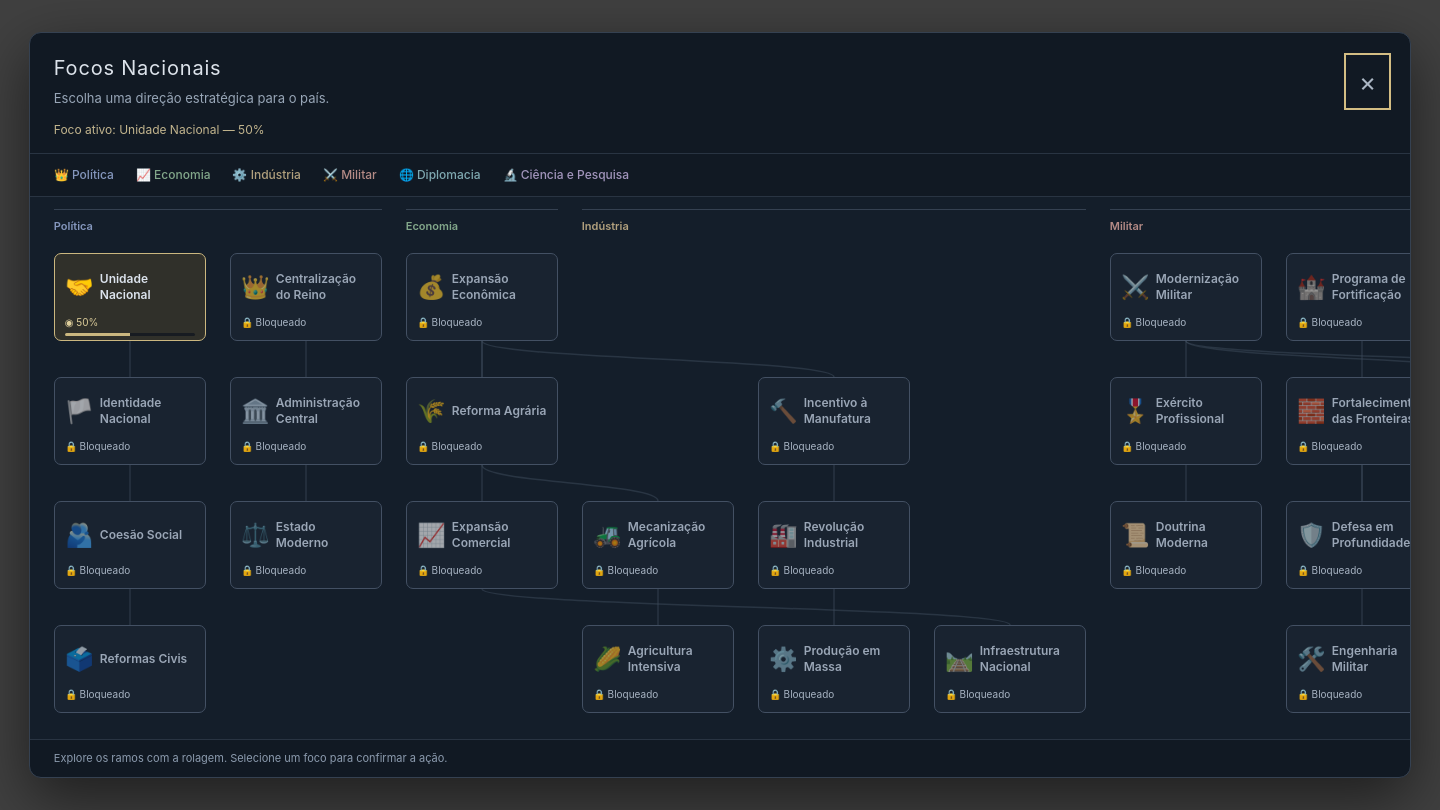
Test case: Focus UI V2 › shows compact active progress, detailed progress and loss on cancellation
Expected: the text "Foco ativo: Unidade Nacional — 50%" is shown, [54,122,265,137]
Click the button "🤝 Unidade Nacional ◉ 50%".
click(130, 297)  # box [54,253,206,341]
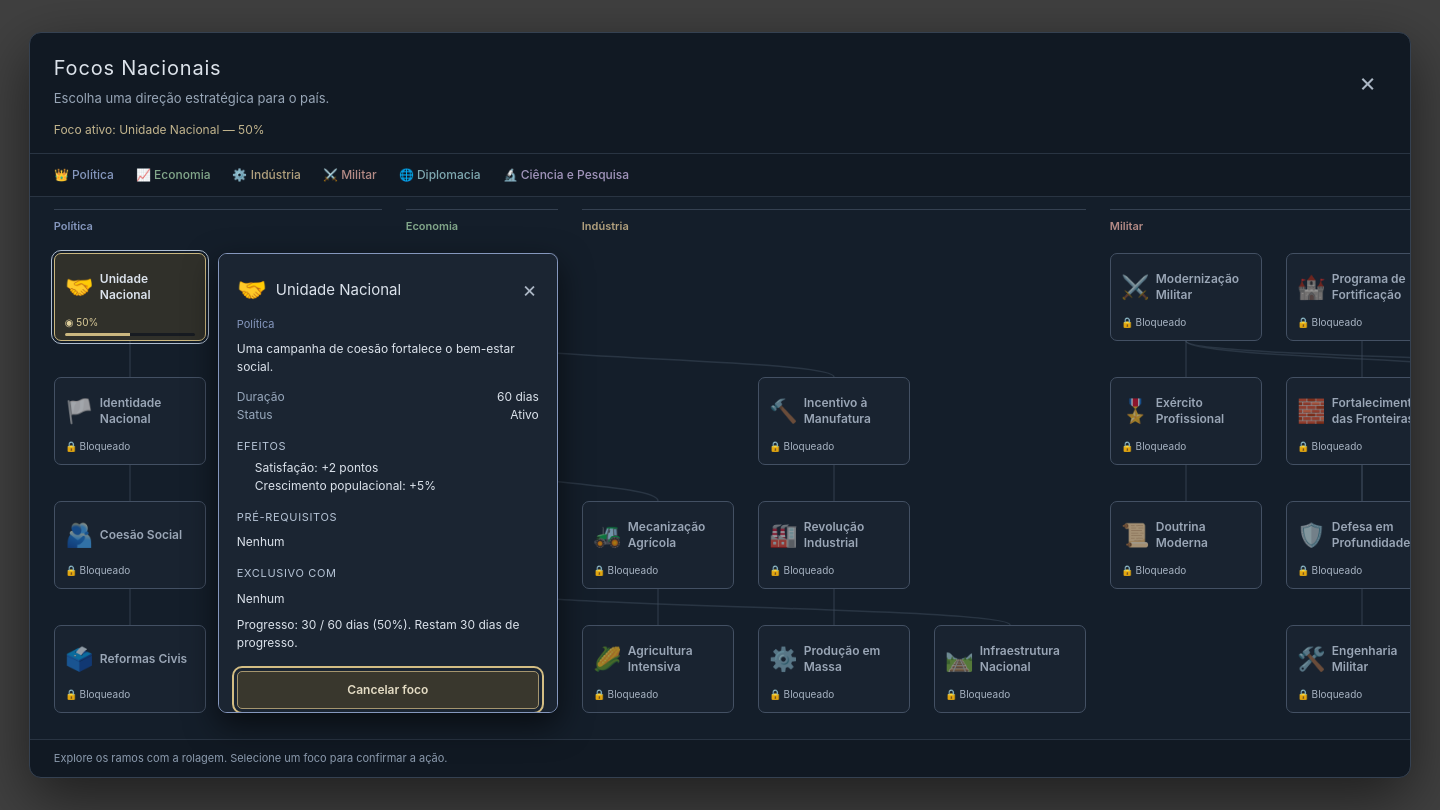
Now the text "Cancelar perde todo o progresso deste foco." is shown, box [237,661,470,675]
